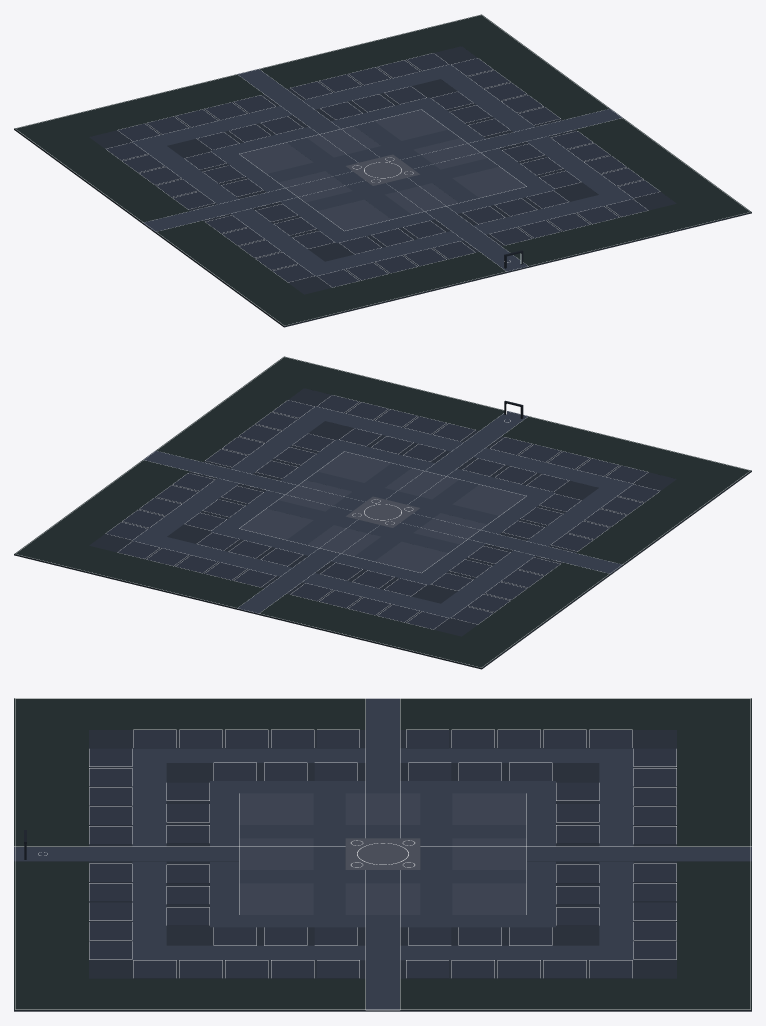
3 renders of one model, top to bottom at view 1: azimuth 30°, elevation 25°; view 2: azimuth 150°, elevation 25°; view 3: azimuth 270°, elevation 25°, orthographic. The views are drawn at different scales.
Visible parts, largest first — view 1: district_frontera.lod1; view 2: district_frontera.lod1; view 3: district_frontera.lod1.
Boxes of the visible parts, x1,y1,x2,y2 form: district_frontera.lod1: [14, 14, 751, 327]; district_frontera.lod1: [14, 356, 751, 669]; district_frontera.lod1: [14, 698, 751, 1011].
Size of the model in its own units: 256 by 7.62 by 256.
